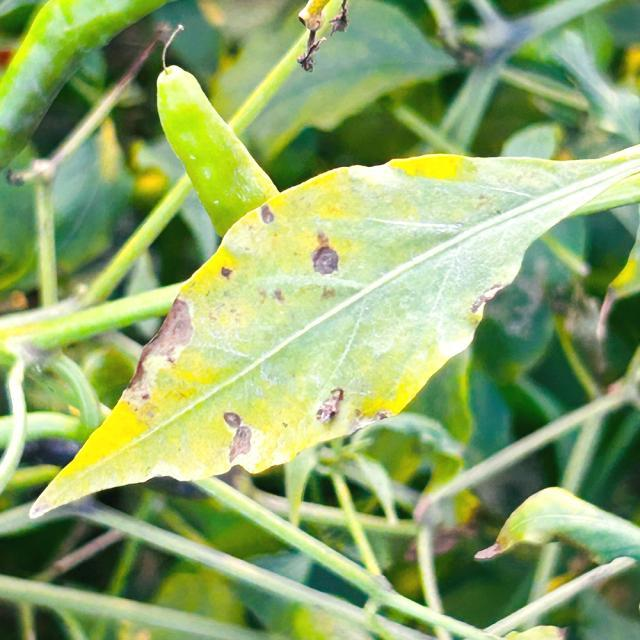Bercak Daun Serkospora: (23, 151, 640, 525)
